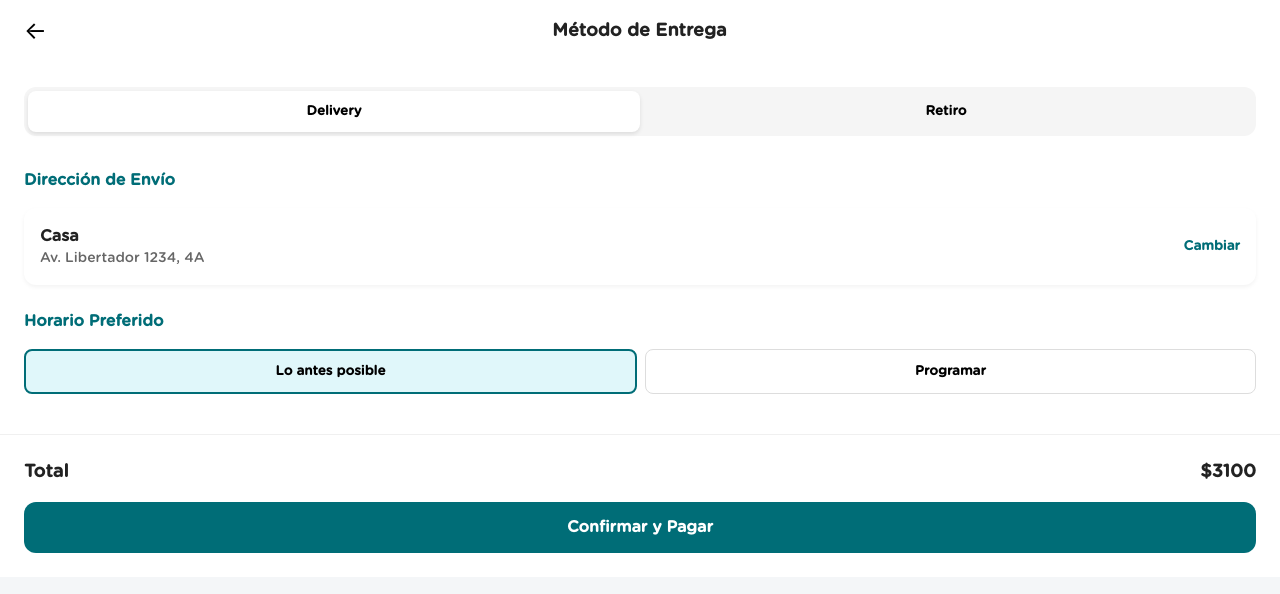
Test: DeliveryMethod Component › toggles delivery method
Click the button "Retiro" at (946, 112), box [640,91,1252,132]
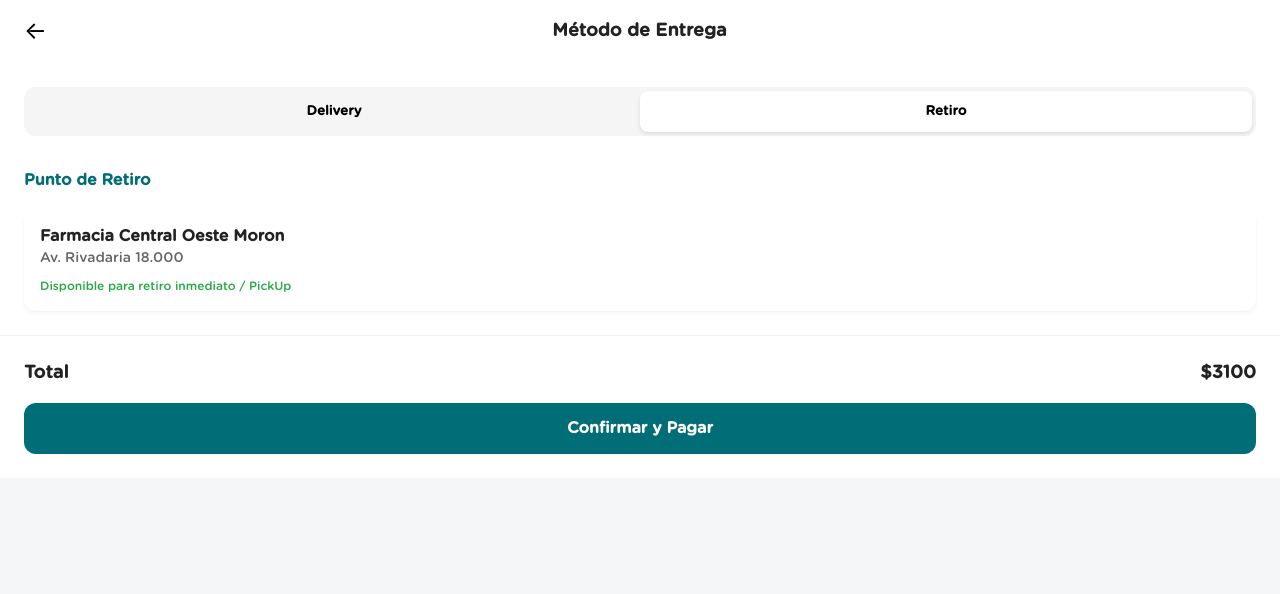
Now the heading "Punto de Retiro" is shown, box [24,172,150,188]
Now the heading "Dirección de Envío" is gone
Click the button "Delivery" at (334, 112), box [28,91,640,132]
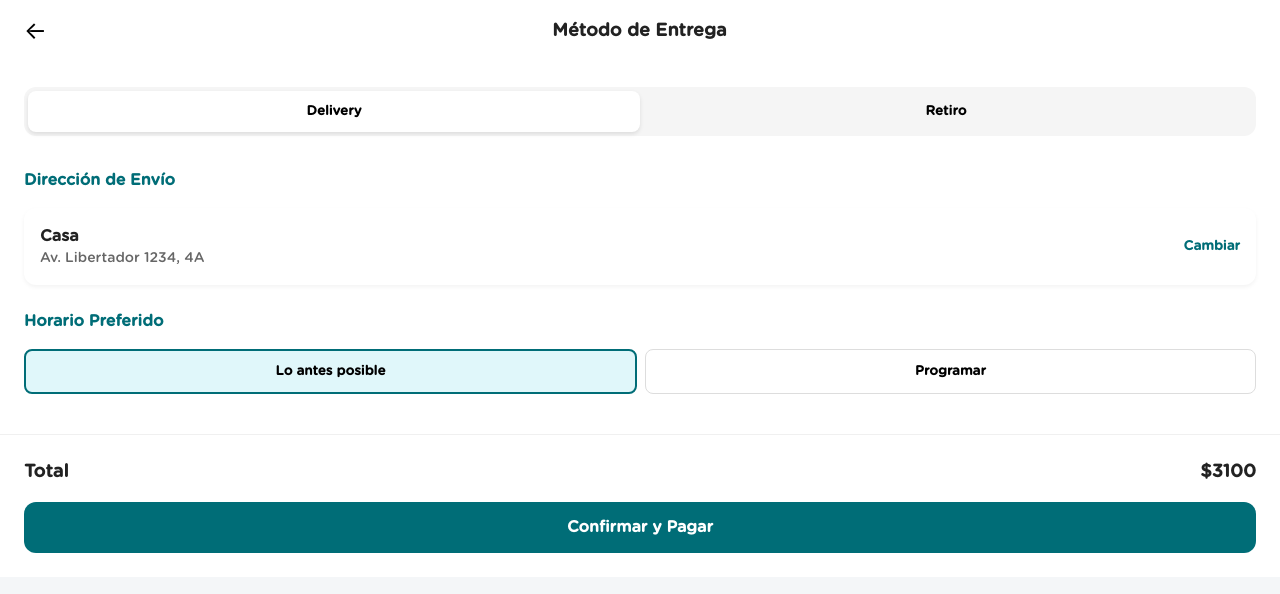
Now the heading "Dirección de Envío" is shown, box [24,172,175,188]
